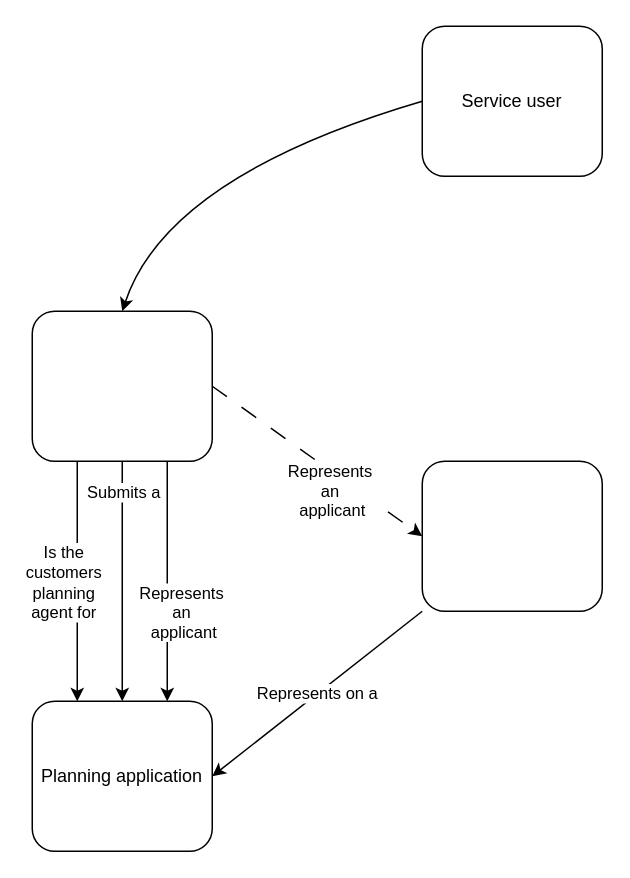
The diagram is 630 pixels wide and 878 high, and some of its shapes have lost their labels. The centre of each missing label's shape, as x and y in pixels:
"Relevent Replications" belongs at pixel 511 535.
"Service user (Application)" belongs at pixel 121 385.
